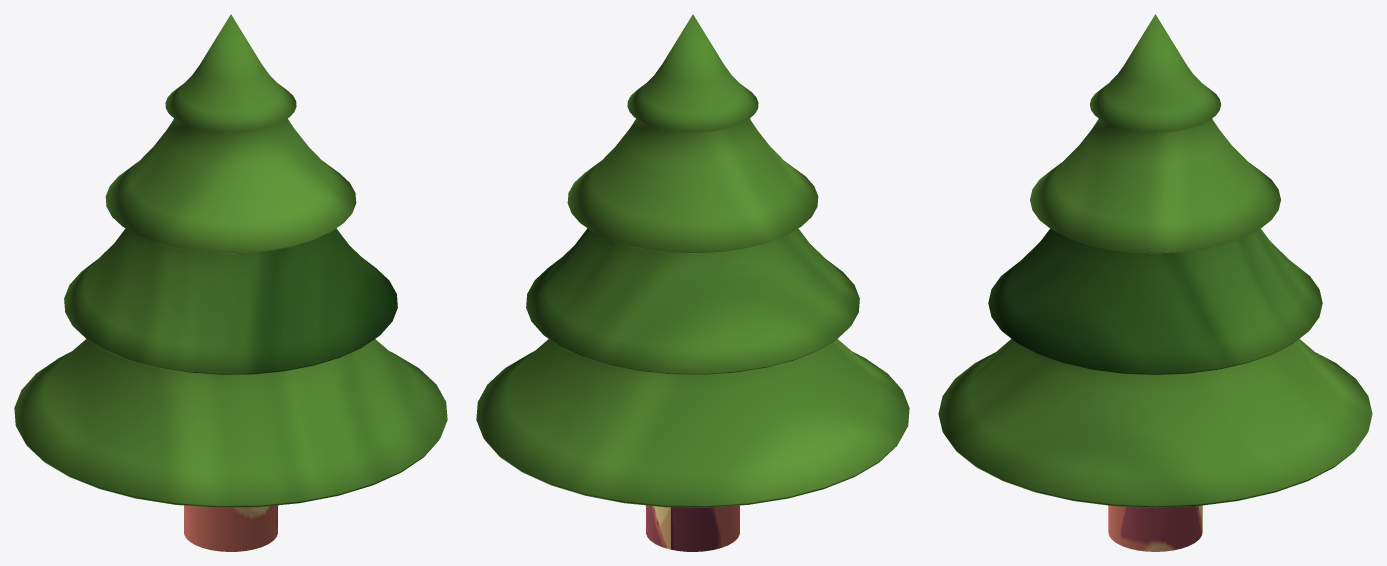
Rendered from ArvoreBraba.fbx.
The picture shows the model from 3 angles, left to right: view 1: azimuth 30°, elevation 25°; view 2: azimuth 150°, elevation 25°; view 3: azimuth 270°, elevation 25°; orthographic projection.
Visible parts, largest first — view 1: Cone; view 2: Cone; view 3: Cone.
Boxes of the visible parts, x1,y1,x2,y2 form: Cone: (14, 14, 447, 551); Cone: (476, 14, 909, 551); Cone: (938, 14, 1372, 551).
Bounding box in the file's own units: 920 × 1212 × 920.
